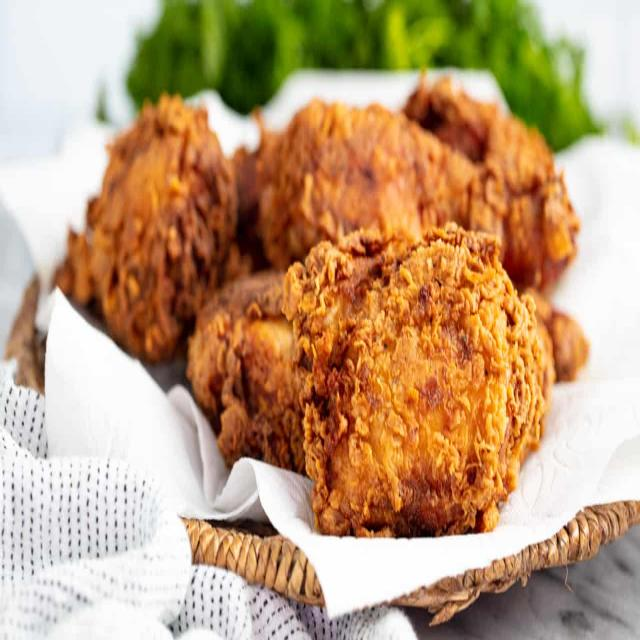Frango: (6, 62, 590, 542)
